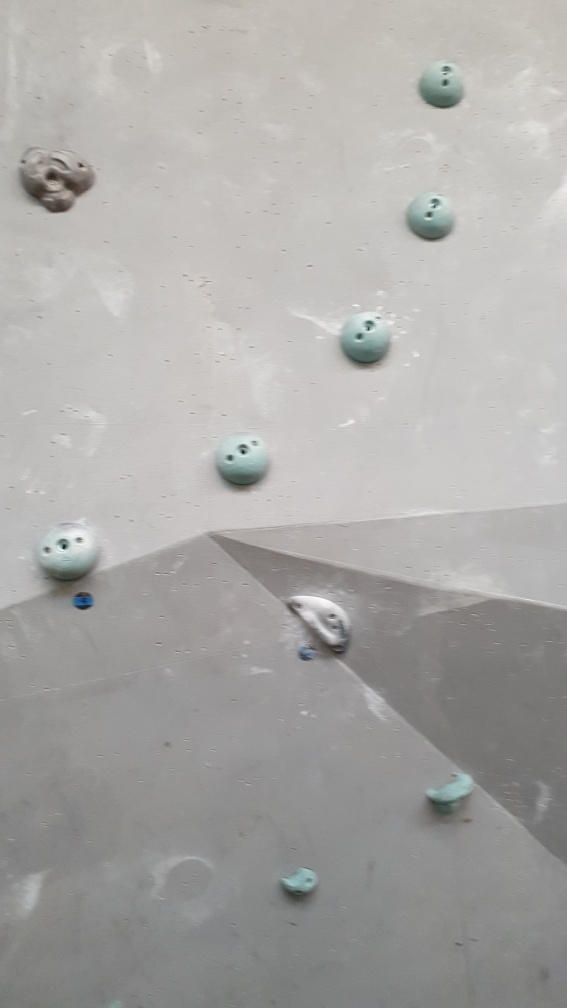Hand Start: (72, 588, 98, 615), (295, 644, 323, 665)
Jug: (15, 140, 102, 218), (423, 767, 477, 820)
Sloper: (34, 519, 104, 588), (212, 427, 273, 489), (339, 303, 396, 369), (412, 53, 473, 109), (403, 188, 461, 245)
